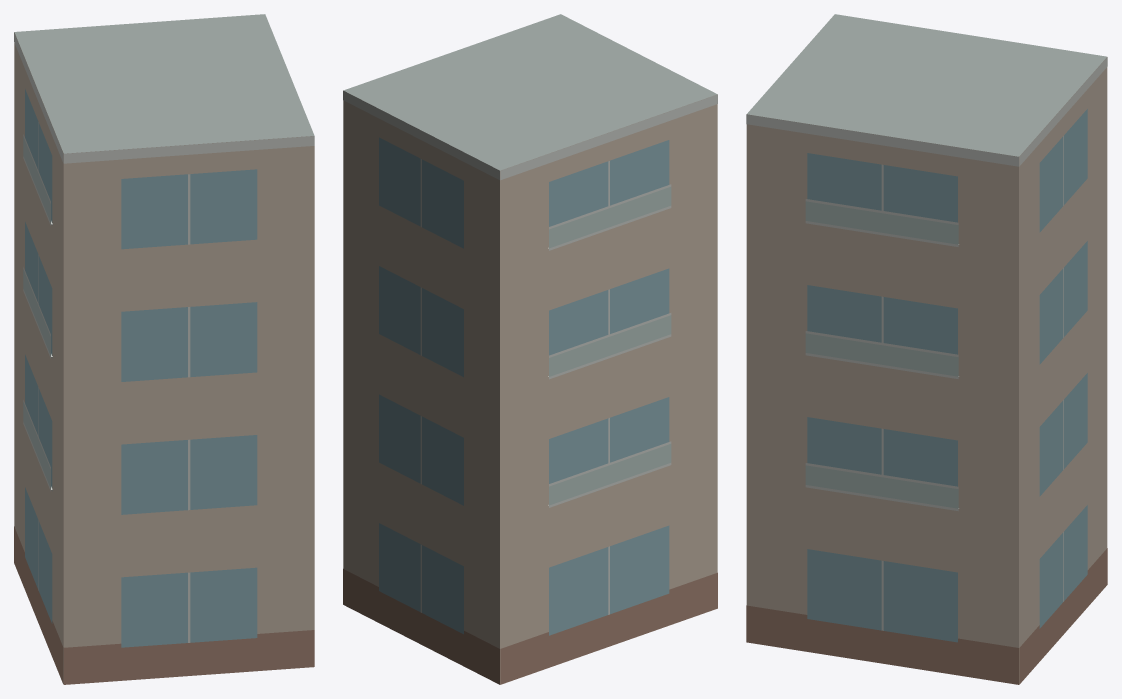
File: survey-upis-32537067.glb
3 renders of one model, left to right at view 1: azimuth 30°, elevation 25°; view 2: azimuth 150°, elevation 25°; view 3: azimuth 270°, elevation 25°, orthographic. The views are drawn at different scales.
Parts seen in each view (by area): view 1: survey-upis-32537067.tmp; view 2: survey-upis-32537067.tmp; view 3: survey-upis-32537067.tmp.
Part boxes in pixels (x1,y1,x2,y2): survey-upis-32537067.tmp: (14,14,314,684); survey-upis-32537067.tmp: (343,14,717,684); survey-upis-32537067.tmp: (746,14,1107,684).
Size of the model in its own units: 7.49 by 12.9 by 8.
